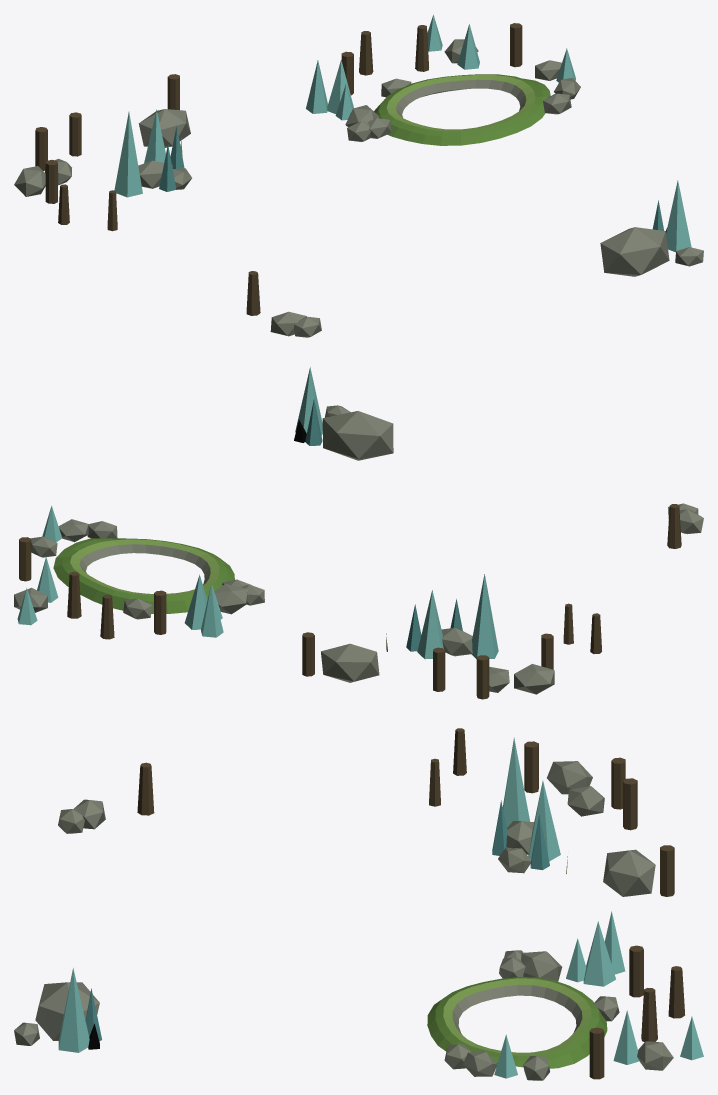
The model's file is crystal_spring_gate_solid_props.fbx.
3 renders of one model, top to bottom at view 1: azimuth 30°, elevation 25°; view 2: azimuth 150°, elevation 25°; view 3: azimuth 270°, elevation 25°, orthographic. The views are drawn at different scales.
Parts seen in each view (by area): view 1: chunk_crystal_spring_gate__PropsSolid; view 2: chunk_crystal_spring_gate__PropsSolid; view 3: chunk_crystal_spring_gate__PropsSolid.
Part boxes in pixels (x1,y1,x2,y2): chunk_crystal_spring_gate__PropsSolid: (14,14,703,337); chunk_crystal_spring_gate__PropsSolid: (14,367,703,699); chunk_crystal_spring_gate__PropsSolid: (14,728,703,1080).
Size of the model in its own units: 202 by 37.57 by 192.
